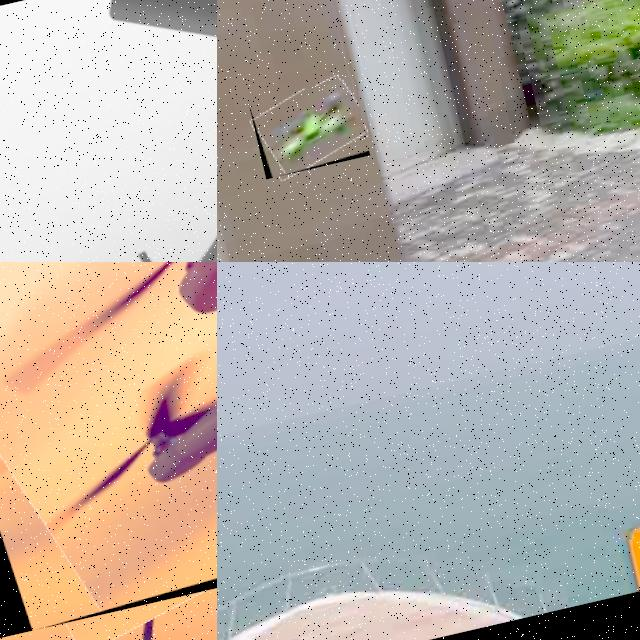drone: (0, 262, 217, 638), (0, 0, 217, 262), (248, 77, 370, 179)
